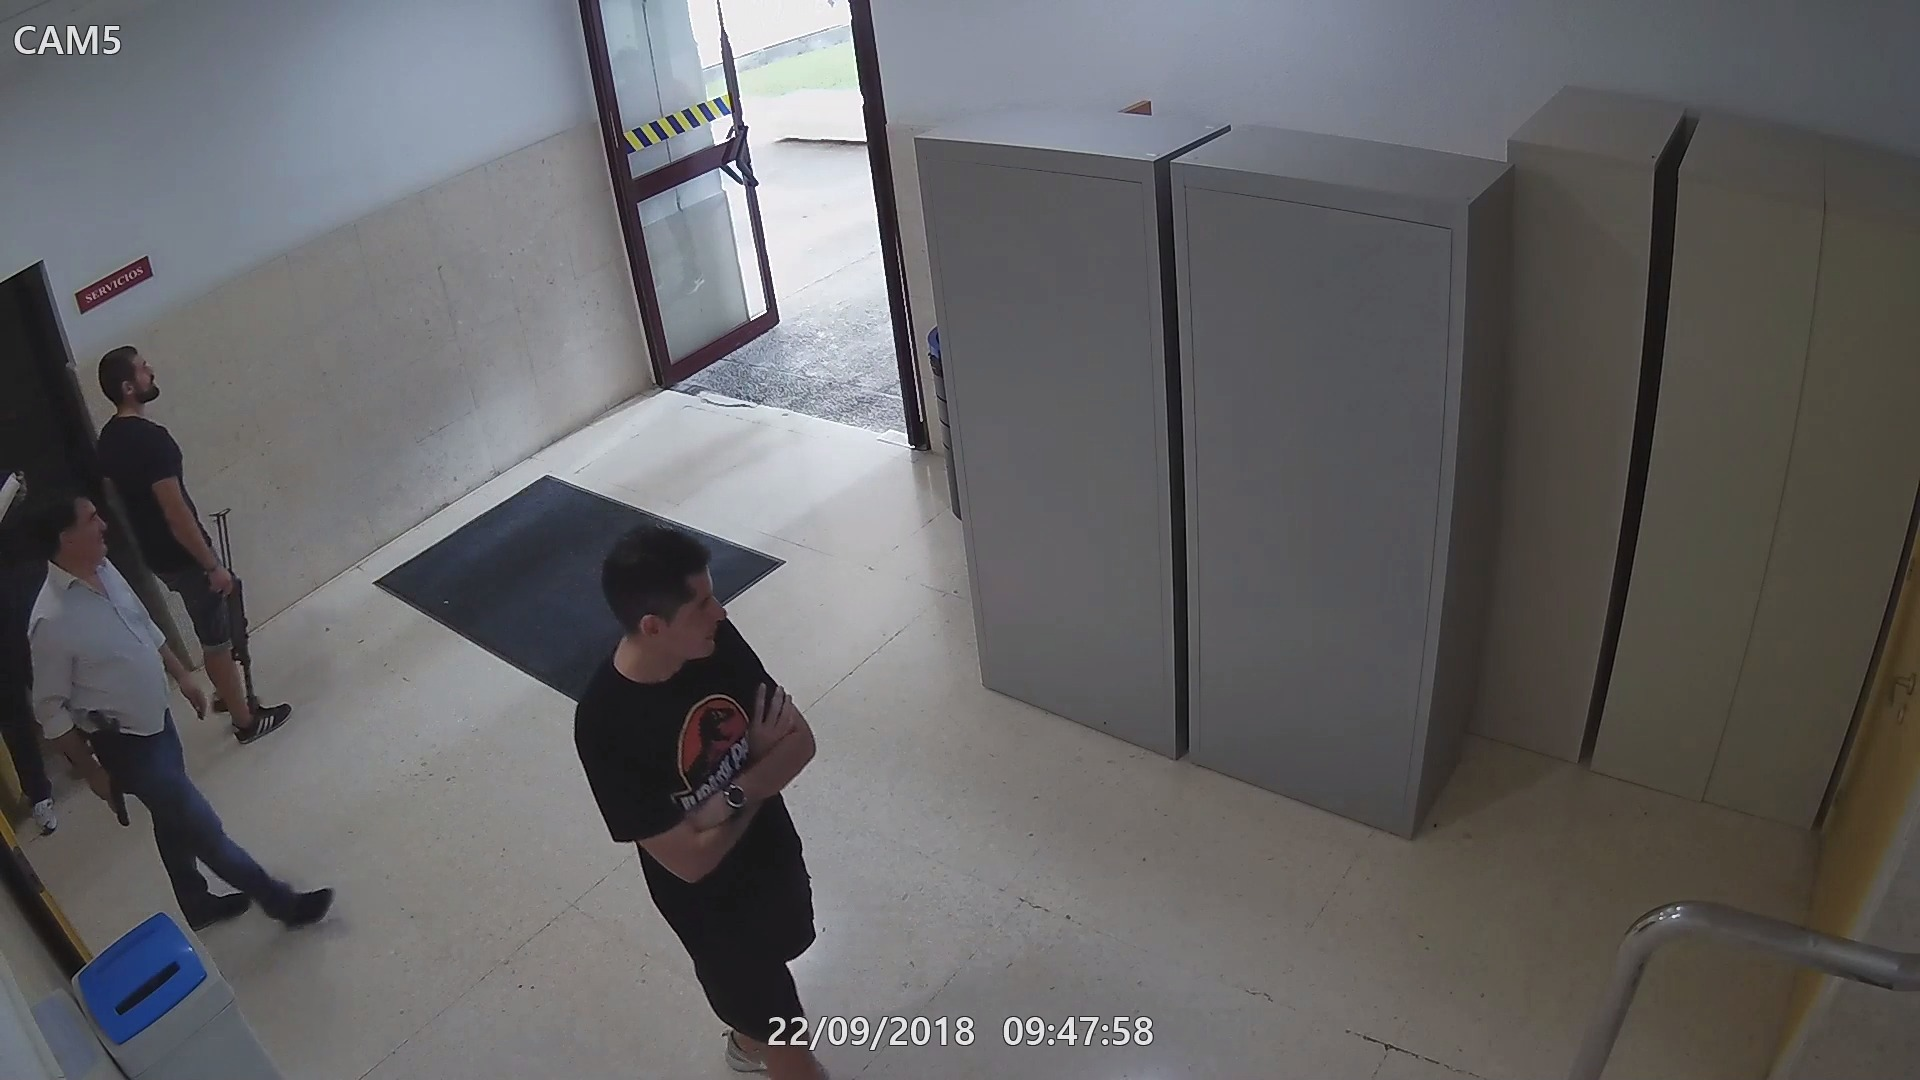Handgun: (84, 761, 133, 827)
Short_rifle: (203, 553, 257, 719)
